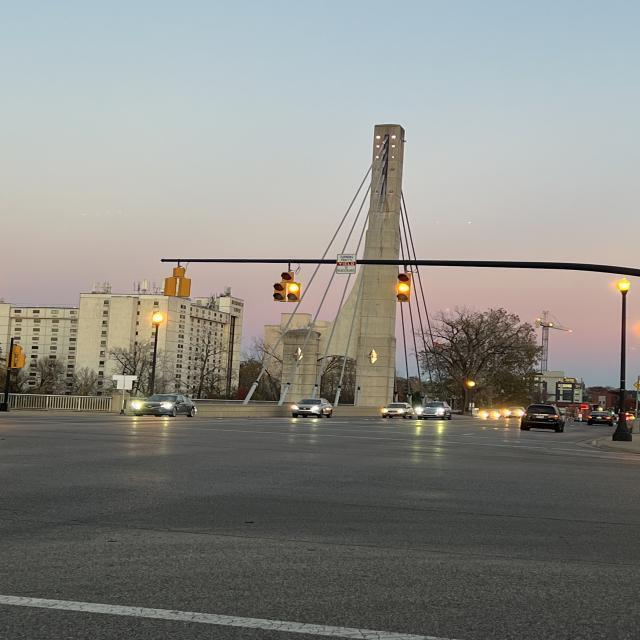yellow_light: (396, 274, 414, 304), (286, 279, 302, 305)
